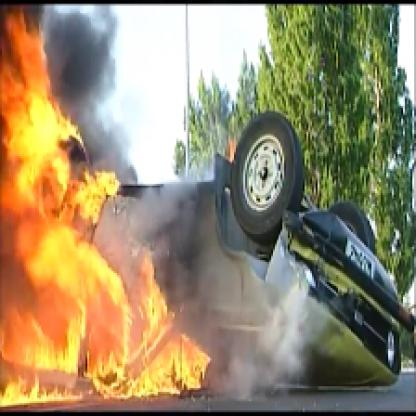Fire: (2, 6, 213, 406)
